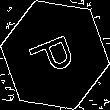P_E: (27, 28, 83, 82)
